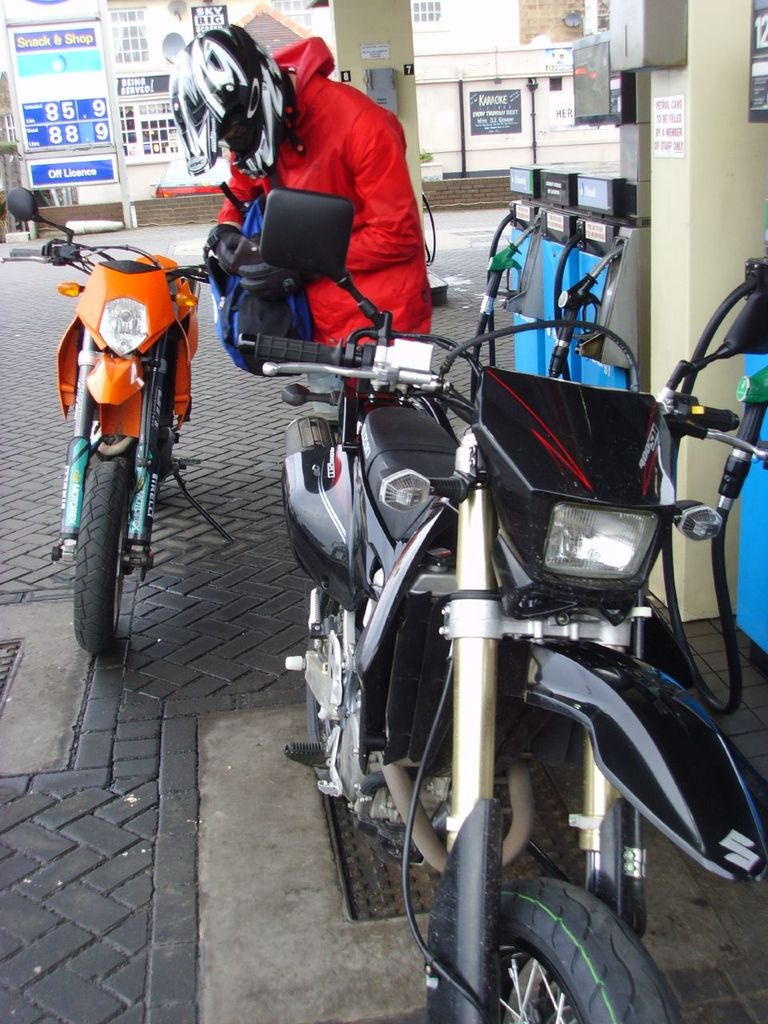Car: (147, 153, 230, 199)
